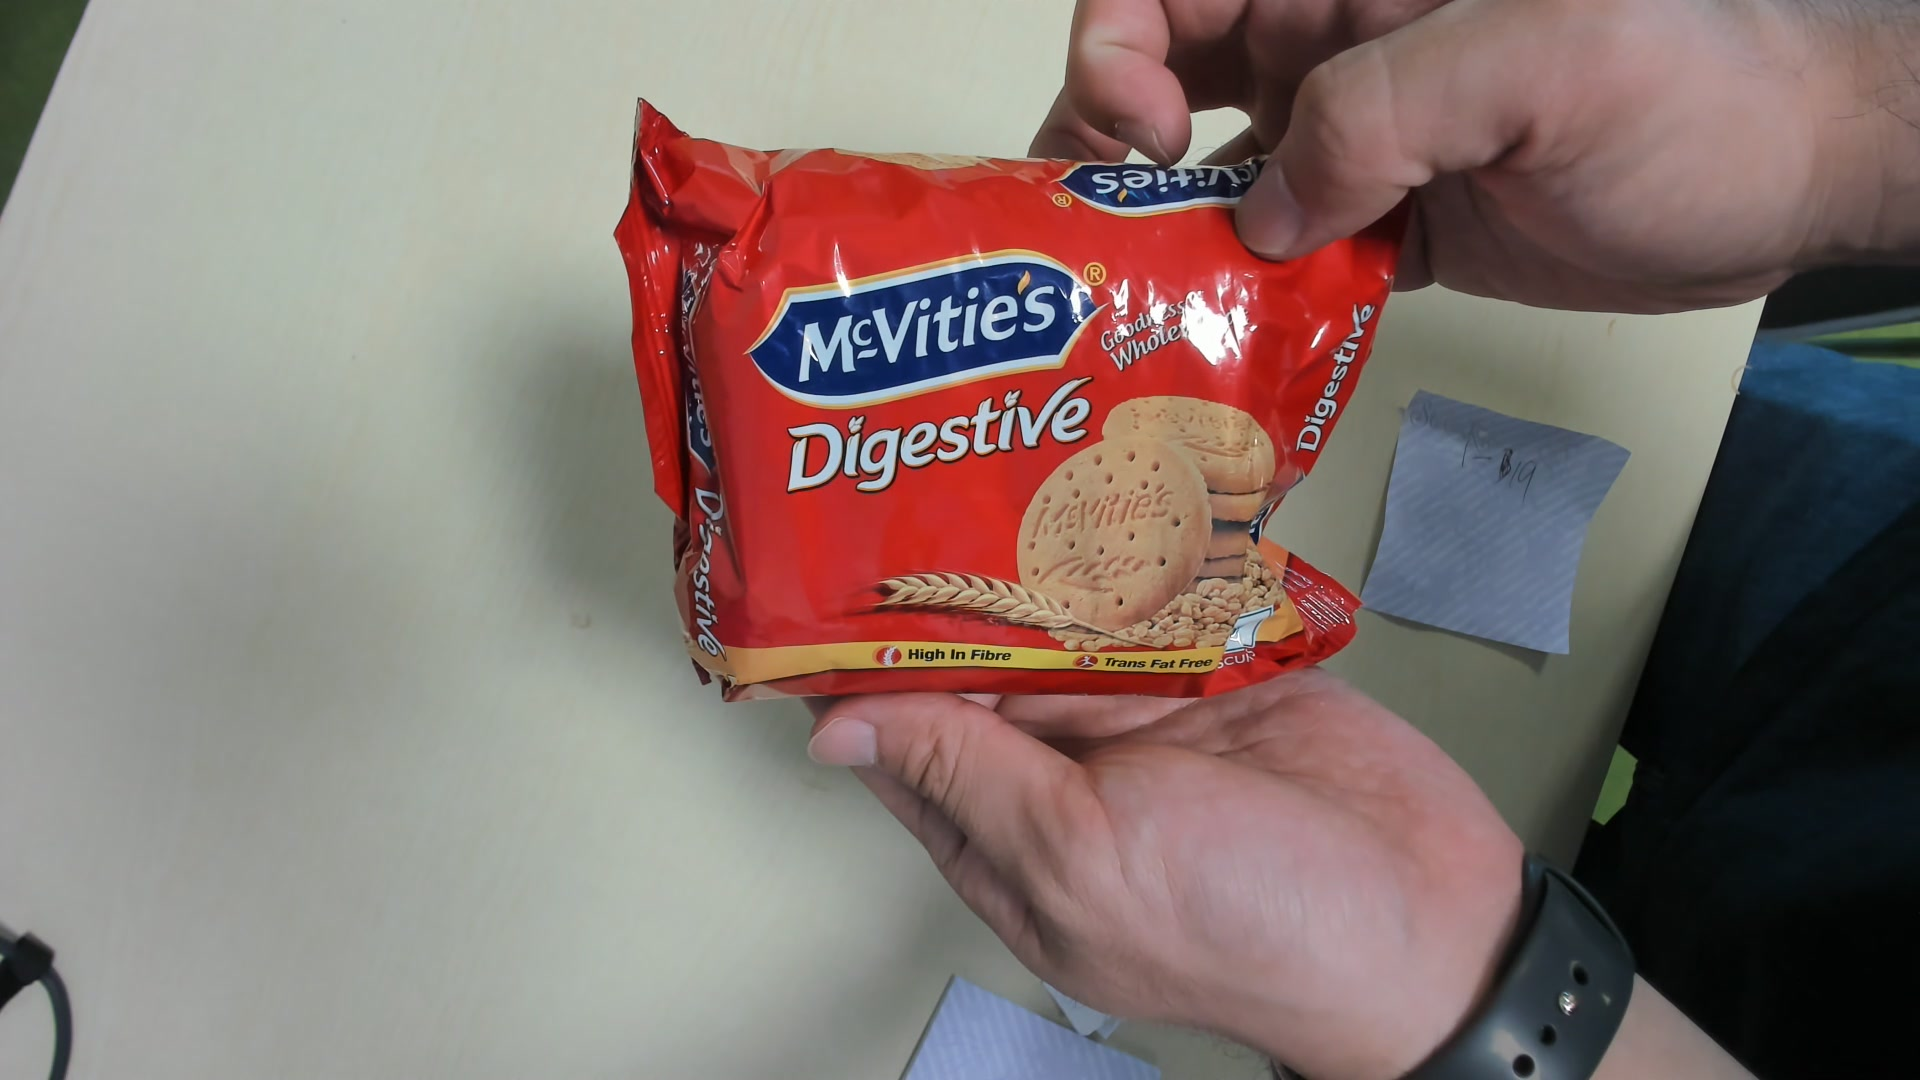BiscuitsCrackersCookies_200-299g_NonHalal_NonHealthy: (601, 146, 1389, 694)
